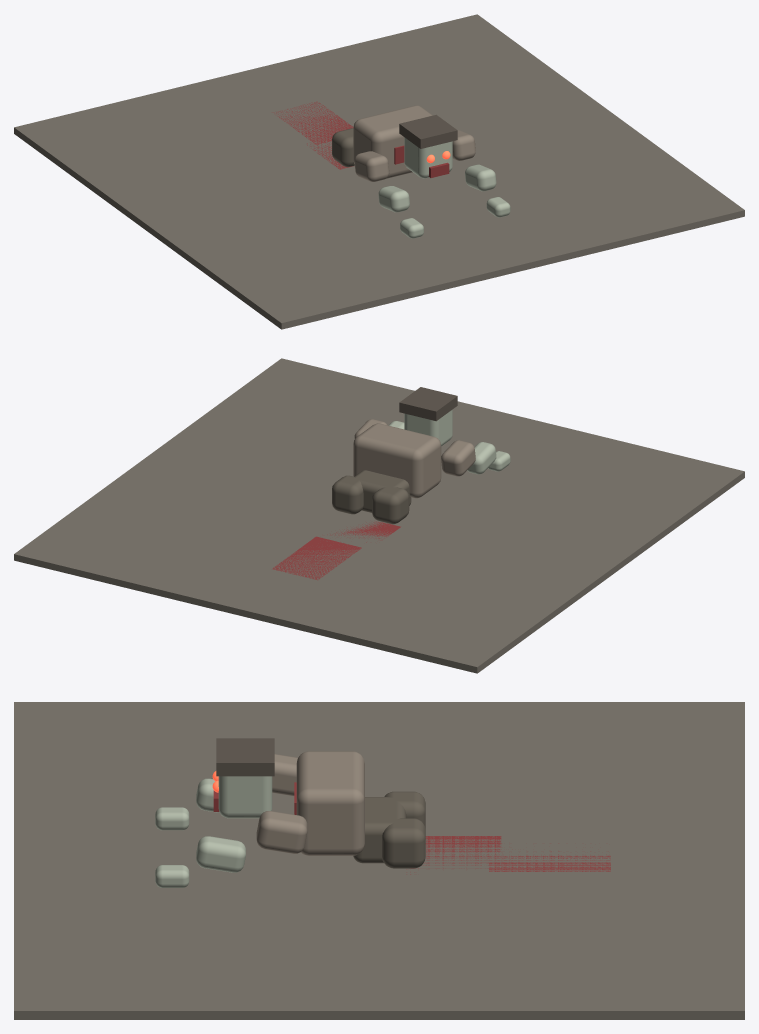
The model's file is crawler_zombie.glb.
3 renders of one model, top to bottom at view 1: azimuth 30°, elevation 25°; view 2: azimuth 150°, elevation 25°; view 3: azimuth 270°, elevation 25°, orthographic. The views are drawn at different scales.
Visible parts, largest first — view 1: ground, torso_mesh, blood_trail_2, hair_mesh, head_mesh, upper_arm_l, leg_stump_l, forearm_l, forearm_r, upper_arm_r; view 2: ground, torso_mesh, blood_trail_2, hair_mesh, leg_stump_l, leg_stump_r, head_mesh, pelvis_mesh, upper_arm_l, forearm_l, blood_trail_1; view 3: ground, torso_mesh, hair_mesh, head_mesh, leg_stump_r, upper_arm_r, pelvis_mesh, blood_trail_1, blood_trail_2, forearm_r, upper_arm_l, hand_l (+3 smaller).
Boxes of the visible parts, x1,y1,x2,y2 form: ground: [14, 14, 744, 329]; torso_mesh: [353, 105, 432, 178]; blood_trail_2: [272, 101, 353, 144]; hair_mesh: [399, 114, 457, 148]; head_mesh: [404, 137, 452, 178]; upper_arm_l: [354, 151, 389, 181]; leg_stump_l: [332, 128, 353, 167]; forearm_l: [378, 186, 409, 212]; forearm_r: [465, 164, 496, 191]; upper_arm_r: [452, 130, 475, 160]; ground: [14, 358, 744, 673]; torso_mesh: [353, 423, 441, 498]; blood_trail_2: [272, 536, 361, 580]; hair_mesh: [399, 387, 457, 421]; leg_stump_l: [372, 487, 409, 524]; leg_stump_r: [332, 475, 363, 514]; head_mesh: [404, 409, 452, 445]; pelvis_mesh: [354, 470, 411, 512]; upper_arm_l: [441, 440, 475, 476]; forearm_l: [467, 442, 496, 474]; blood_trail_1: [327, 521, 400, 542]; ground: [14, 702, 744, 1019]; torso_mesh: [296, 751, 364, 855]; hair_mesh: [216, 738, 274, 776]; head_mesh: [218, 776, 272, 818]; leg_stump_r: [382, 818, 425, 868]; upper_arm_r: [256, 811, 307, 853]; pelvis_mesh: [353, 797, 406, 863]; blood_trail_1: [406, 836, 501, 874]; blood_trail_2: [489, 843, 610, 871]; forearm_r: [196, 836, 245, 872]; upper_arm_l: [272, 754, 297, 796]; hand_l: [155, 807, 189, 830].
Bounding box in the file's own units: 3 × 0.52 × 3.
